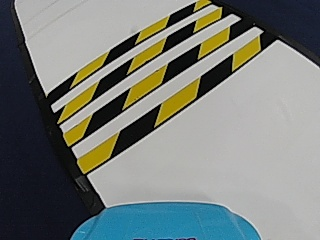bump: (53, 19, 234, 129)
